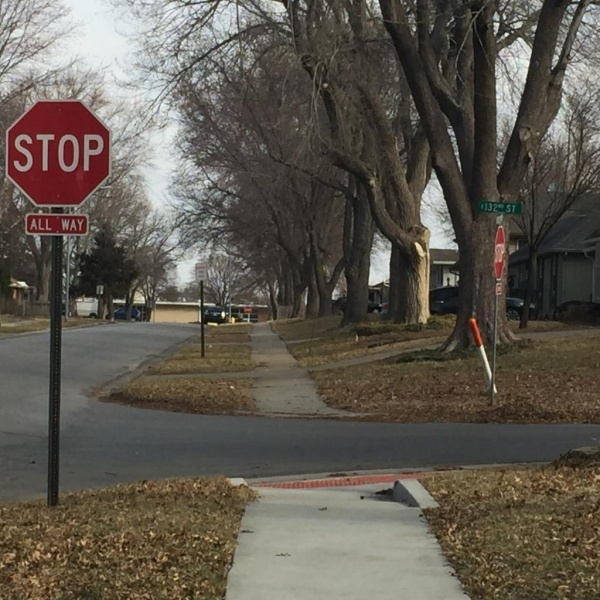stop: (10, 95, 109, 211)
